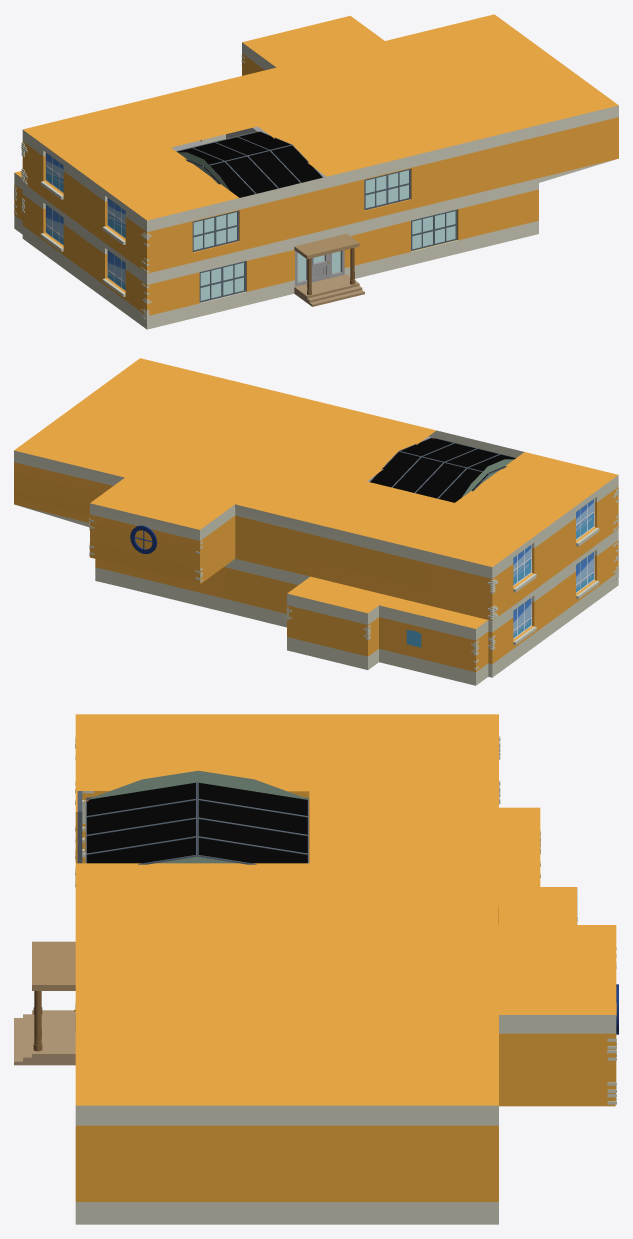
File: House.fbx
The picture shows the model from 3 angles, top to bottom: view 1: azimuth 30°, elevation 25°; view 2: azimuth 150°, elevation 25°; view 3: azimuth 270°, elevation 25°; orthographic projection. The views are drawn at different scales.
Parts seen in each view (by area): view 1: House.05, House.Door; view 2: House.05; view 3: House.05.
Part boxes in pixels (box(x1,y1,x2,y2)): House.05: box(14, 14, 618, 329); House.Door: box(311, 254, 329, 282); House.05: box(14, 358, 618, 685); House.05: box(14, 714, 618, 1224).
Bounding box in the file's own units: 3665 × 895 × 2380.
